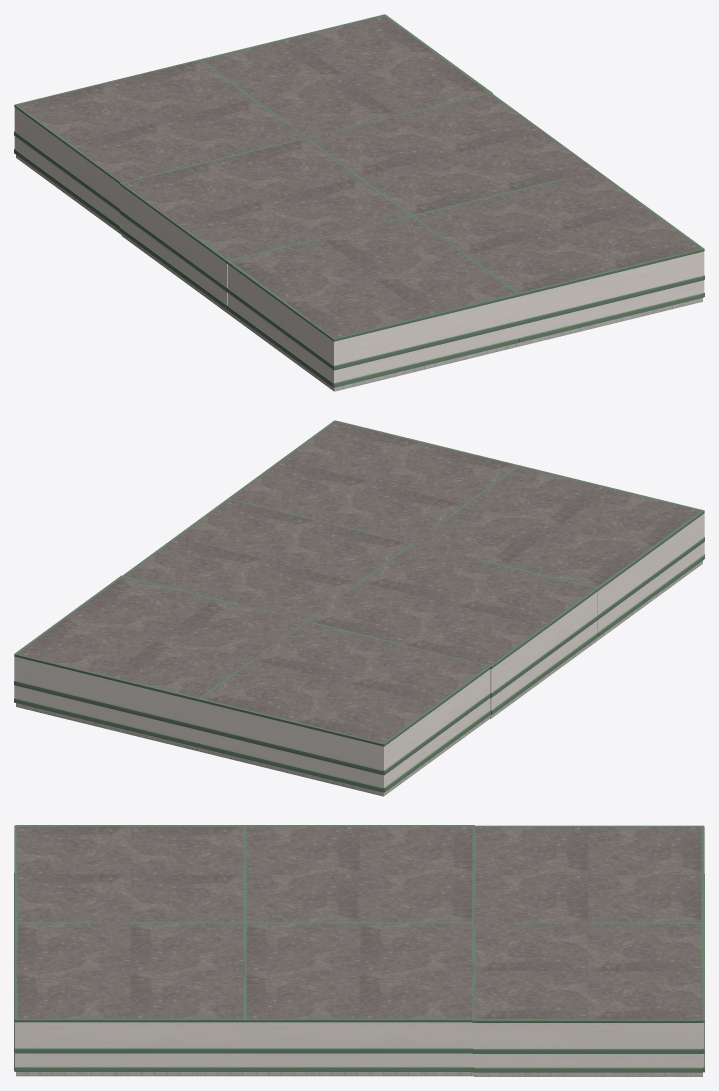
File: Stage_Room.gltf
3 renders of one model, top to bottom at view 1: azimuth 30°, elevation 25°; view 2: azimuth 150°, elevation 25°; view 3: azimuth 270°, elevation 25°, orthographic. The views are drawn at different scales.
Parts seen in each view (by area): view 1: SM_Room_NonPllar_L, SM_Room_NonPllar2, SM_Room_NonPllar_L2, SM_Room_NonPllar, SM_Room_NonPllar_L4, SM_Room_NonPllar_L3; view 2: SM_Room_NonPllar, SM_Room_NonPllar_L4, SM_Room_NonPllar_L2, SM_Room_NonPllar_L, SM_Room_NonPllar2, SM_Room_NonPllar_L3; view 3: SM_Room_NonPllar_L4, SM_Room_NonPllar2, SM_Room_NonPllar_L3, SM_Room_NonPllar, SM_Room_NonPllar_L, SM_Room_NonPllar_L2.
Boxes of the visible parts, box(x1,y1,x2,y2) form: SM_Room_NonPllar_L: box(226, 216, 520, 391); SM_Room_NonPllar2: box(413, 171, 704, 346); SM_Room_NonPllar_L2: box(119, 137, 413, 313); SM_Room_NonPllar: box(14, 60, 306, 234); SM_Room_NonPllar_L4: box(198, 14, 492, 137); SM_Room_NonPllar_L3: box(306, 92, 597, 216); SM_Room_NonPllar: box(198, 620, 490, 796); SM_Room_NonPllar_L4: box(14, 575, 306, 751); SM_Room_NonPllar_L2: box(306, 543, 598, 718); SM_Room_NonPllar_L: box(412, 465, 704, 640); SM_Room_NonPllar2: box(229, 420, 518, 543); SM_Room_NonPllar_L3: box(122, 498, 411, 621); SM_Room_NonPllar_L4: box(472, 922, 704, 1076); SM_Room_NonPllar2: box(14, 922, 246, 1076); SM_Room_NonPllar_L3: box(243, 922, 475, 1076); SM_Room_NonPllar: box(472, 825, 704, 970); SM_Room_NonPllar_L: box(14, 825, 245, 969); SM_Room_NonPllar_L2: box(243, 825, 475, 922).
Bounding box in the file's own units: 40.45 × 5.5 × 60.35.
Materials: 4 (4 with a texture image).
